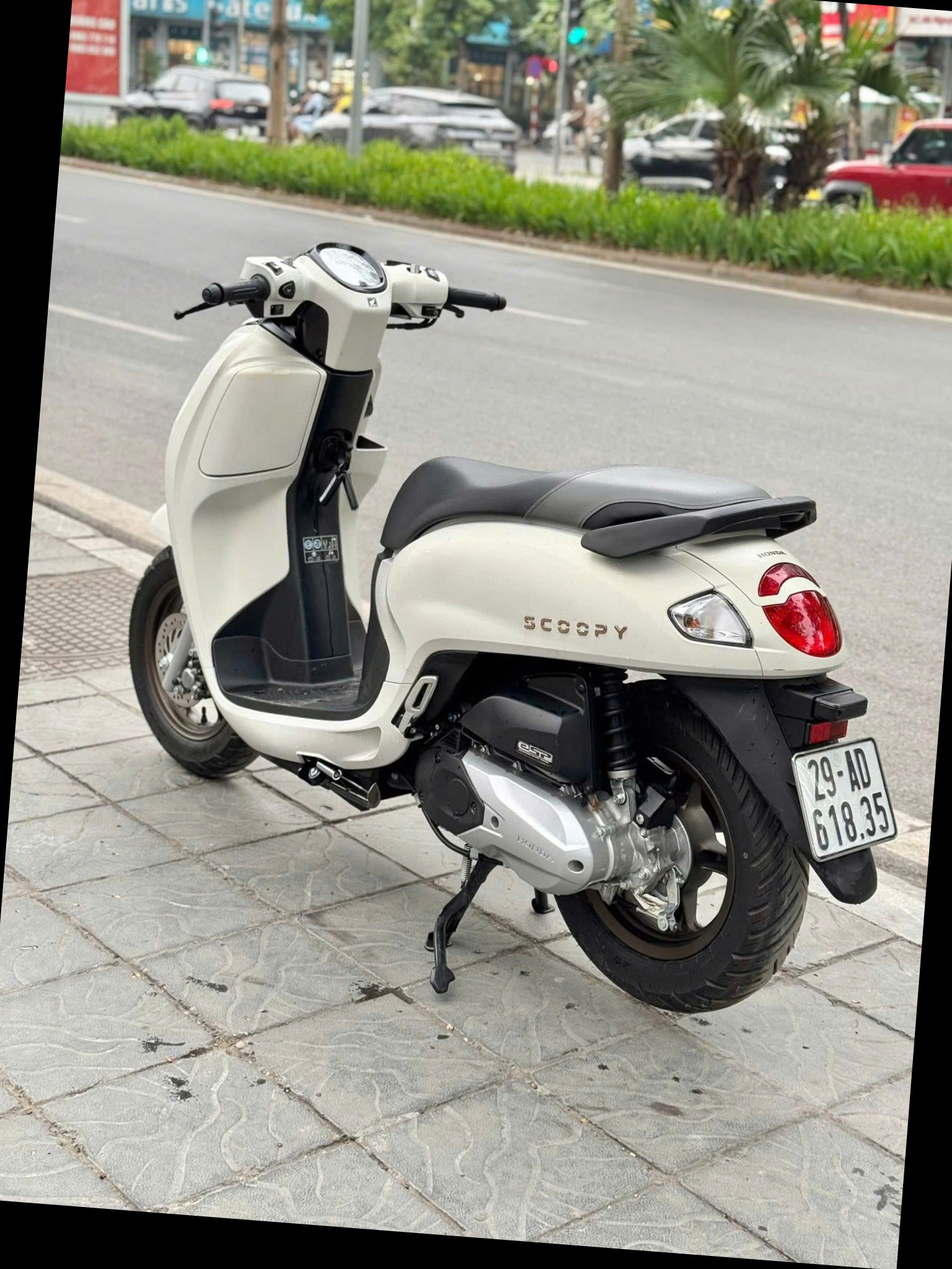Bien-so: (802, 733, 918, 867)
